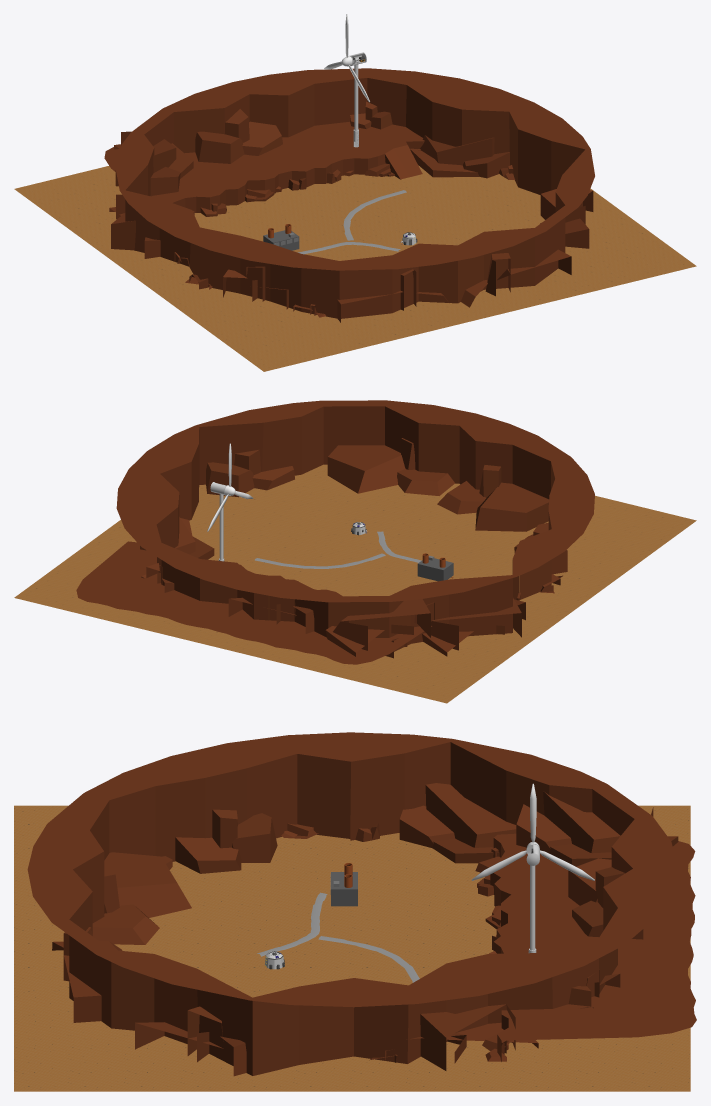
Rendered from Example.fbx.
3 views of the same model, one above another, from view 1: azimuth 30°, elevation 25°; view 2: azimuth 150°, elevation 25°; view 3: azimuth 270°, elevation 25° (orthographic). The views are drawn at different scales.
Parts seen in each view (by area): view 1: Object078, Object095, Box245, Object092; view 2: Object078, Box245, Object095, Object093; view 3: Object078, Object095, Object093, Box245, Object092.
Part boxes in pixels (bbox=[...]): Object078: bbox=[14, 68, 696, 371]; Object095: bbox=[298, 190, 406, 254]; Box245: bbox=[263, 224, 299, 250]; Object092: bbox=[350, 52, 366, 147]; Object078: bbox=[14, 400, 696, 703]; Box245: bbox=[417, 553, 453, 581]; Object095: bbox=[255, 531, 421, 568]; Object093: bbox=[207, 443, 253, 531]; Object078: bbox=[14, 732, 696, 1091]; Object095: bbox=[257, 892, 419, 982]; Object093: bbox=[471, 783, 594, 880]; Box245: bbox=[330, 863, 357, 906]; Object092: bbox=[526, 844, 539, 953].
Size of the model in its own units: 5194 by 1760 by 5242.
Materials: 7 (5 with a texture image).
